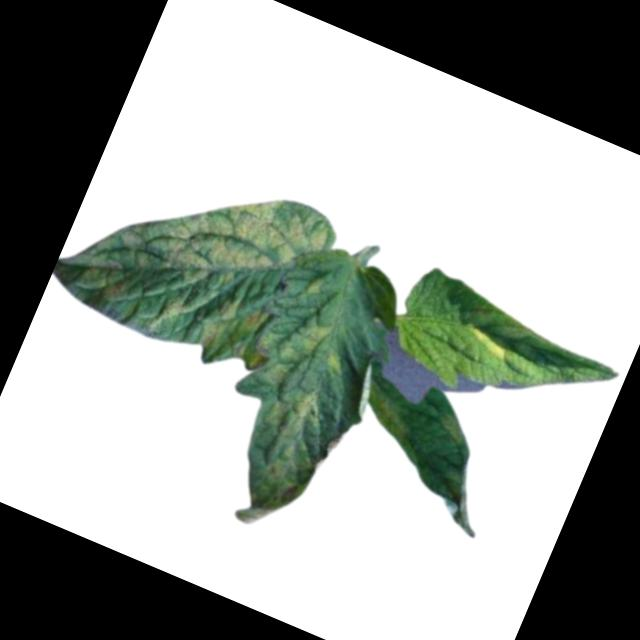Leaf_Mold: (47, 124, 344, 386), (220, 375, 346, 542), (288, 316, 355, 378), (460, 322, 512, 363), (432, 412, 477, 454)
